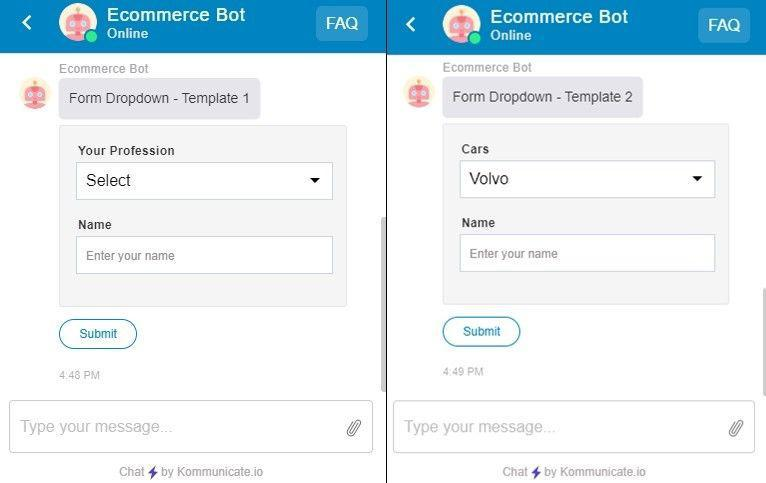button: (443, 316, 521, 348), (60, 319, 139, 350)
dropdown: (459, 160, 718, 201), (77, 163, 334, 201)
icon: (345, 414, 365, 440), (727, 413, 745, 439)
input: (395, 401, 756, 455), (9, 402, 374, 454), (460, 235, 719, 274), (78, 236, 335, 274)
label: (79, 143, 180, 157), (77, 219, 113, 233), (461, 143, 493, 157), (461, 219, 496, 228)
